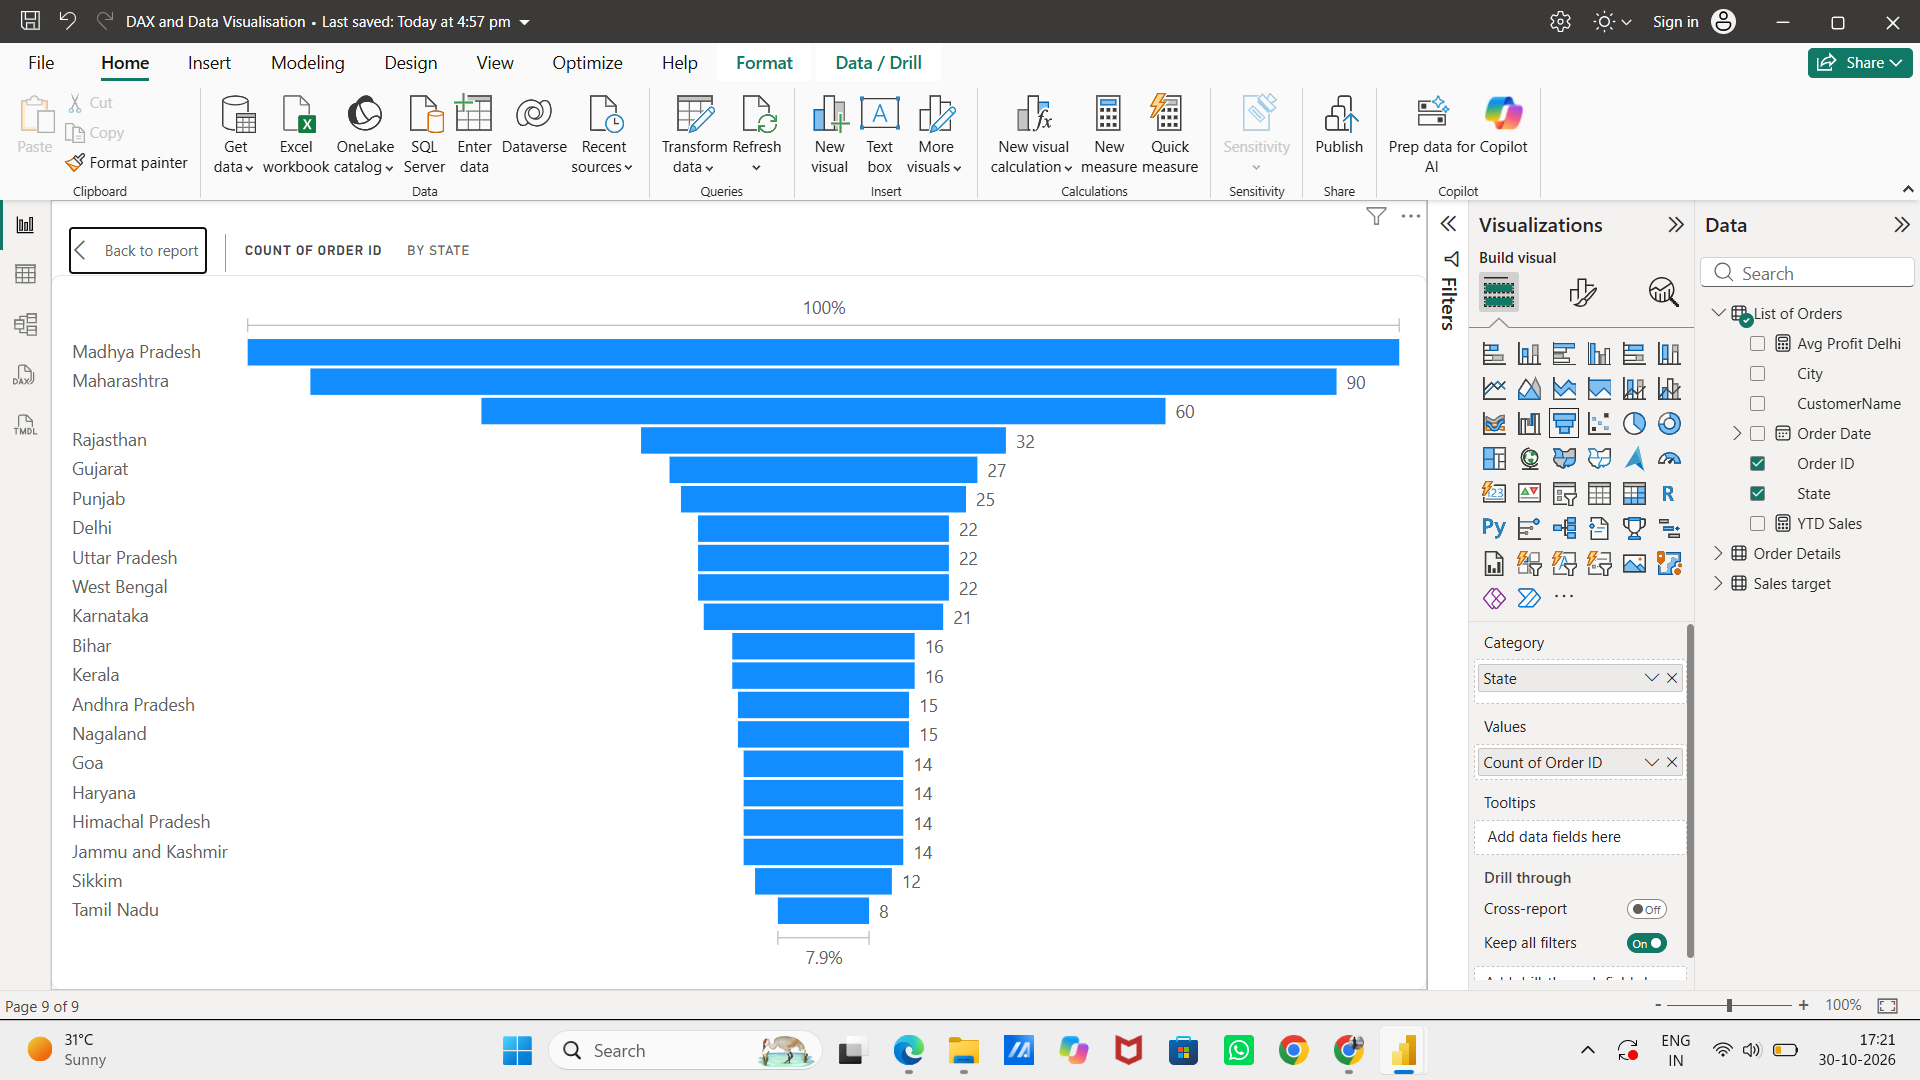

Layout of this report page (visuals, bound fields, positions):
{"tool":"powerbi","page":{"name":"Funnel chart","canvas":[1920,1080],"ordinal":8},"visuals":[{"type":"funnel","fields":{"Category":["List of Orders.State"],"Y":["CountNonNull(List of Orders.Order ID)"]},"box":[10.9,0,457.8,428.9],"z":0}]}

Visuals, with their boxes on the page's 1920x1080 design canvas (x1, y1, x2, y2). These are canvas units, not pixel positions in the 1920x1080 screenshot, which may show the page scaled, cropped or inside an application window:
funnel - List of Orders.State x CountNonNull(List of Orders.Order ID): 11 0 469 429
